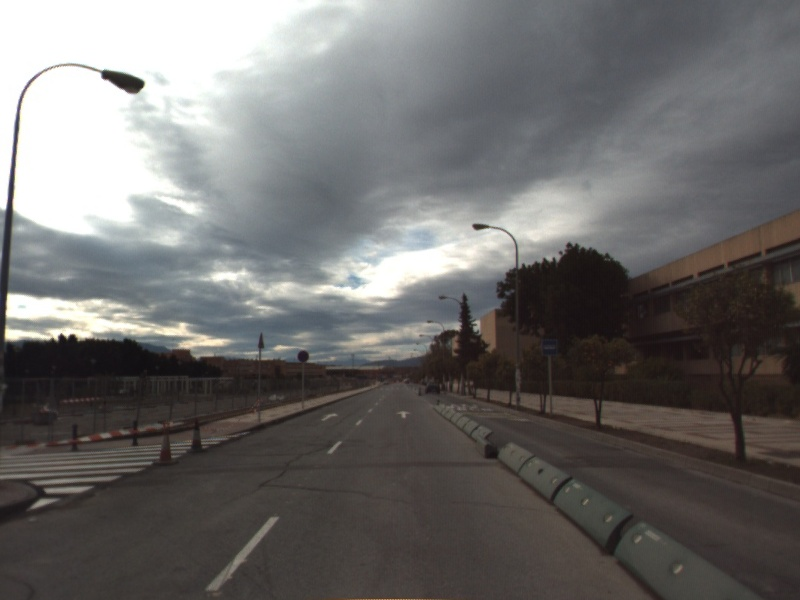STRAIGHT: (318, 411, 340, 423), (394, 408, 413, 420)
